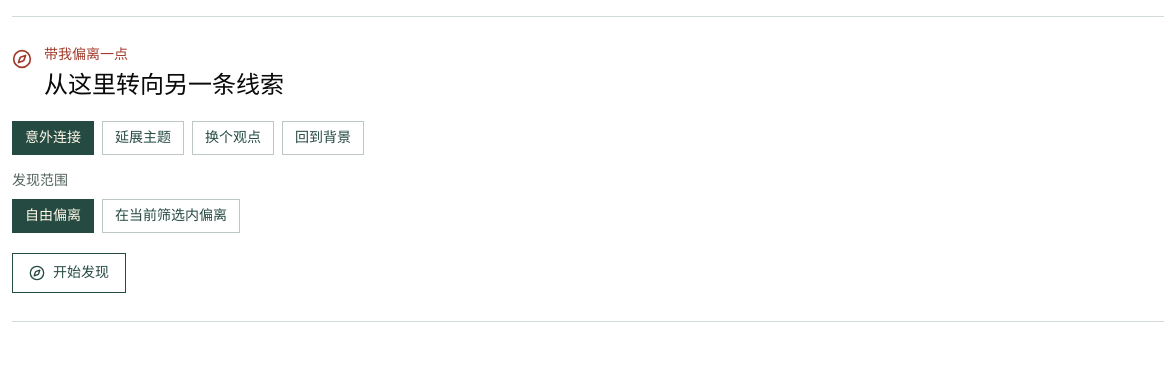
Scenario: DiscoveryPanel › falls back to free discovery when the signed context has expired
Click the button "在当前筛选内偏离" at (171, 216), box 102,199 -> 240,233
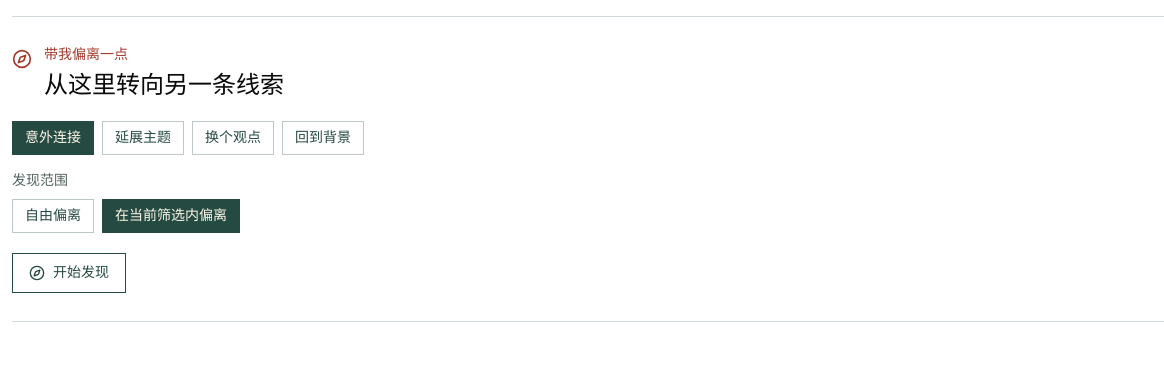
Click the button "开始发现" at (69, 273), box 12,253 -> 126,293
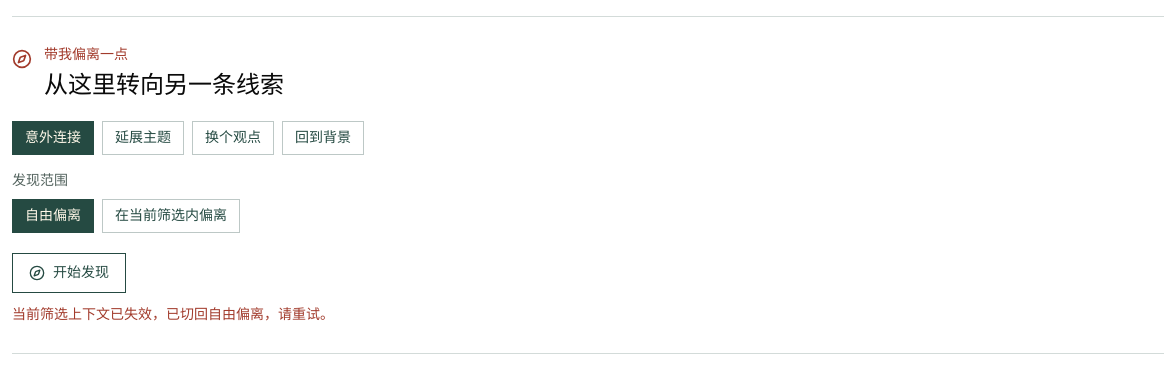
Result: the message shows "已切回自由偏离" at 12,307 -> 334,322
